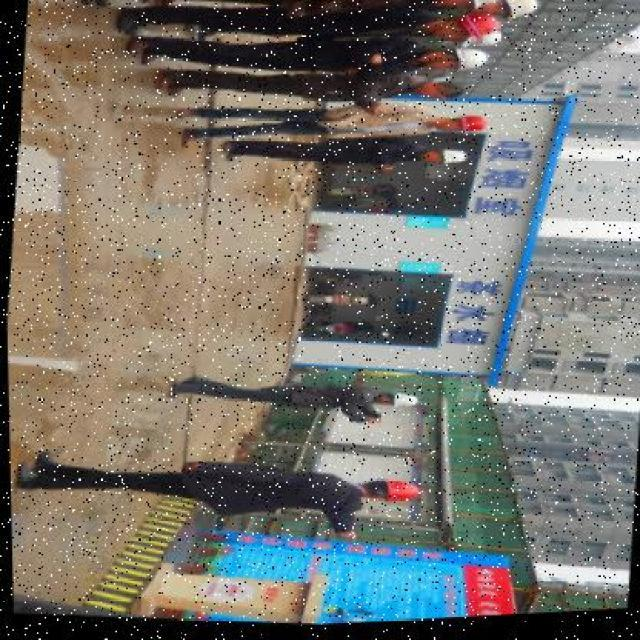helmet: (377, 480, 422, 511), (376, 394, 421, 418)
